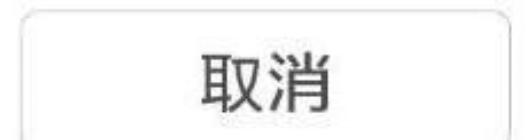Button: (1, 1, 524, 139)
